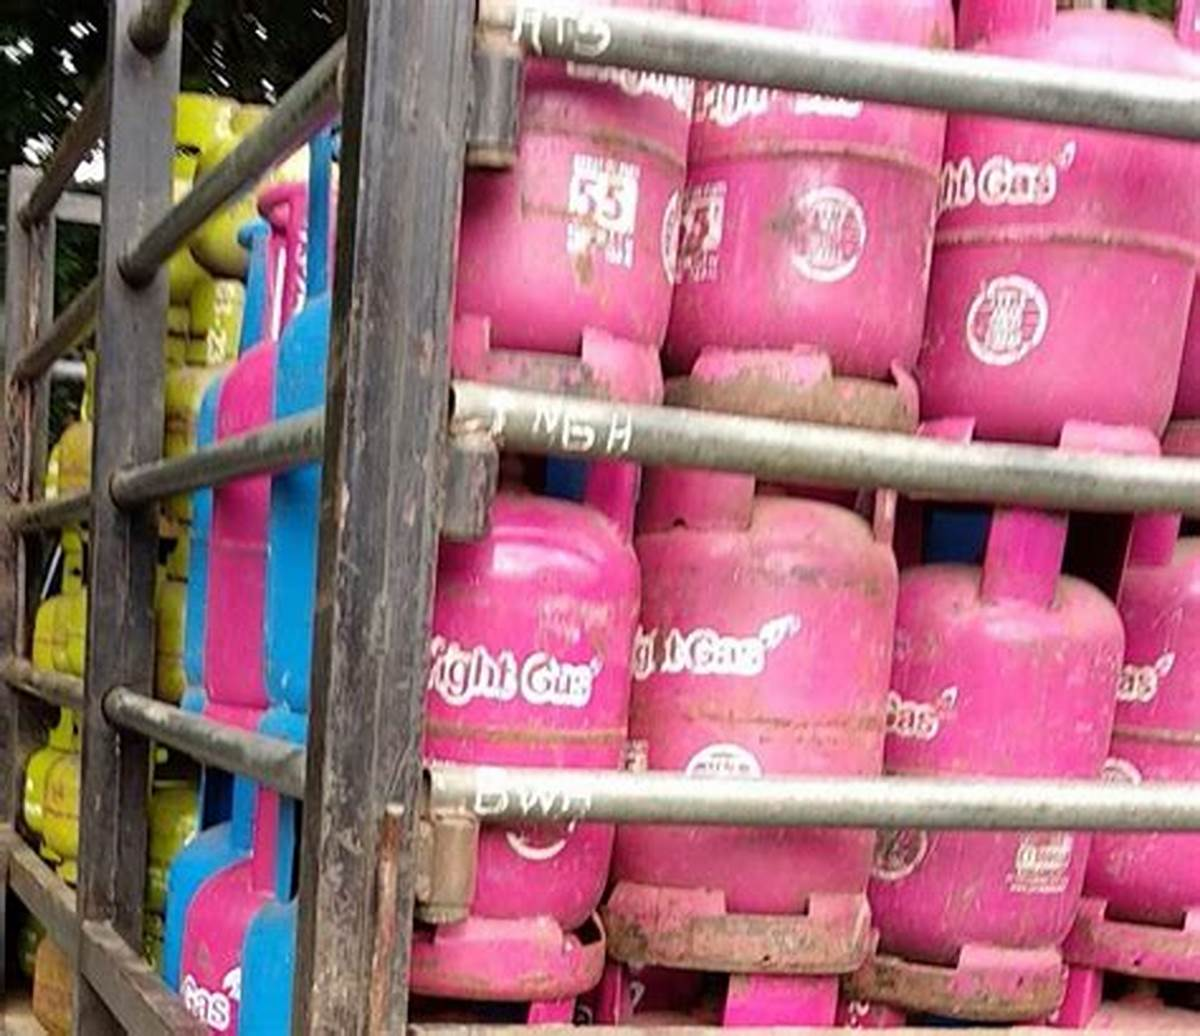blue_gas: (268, 127, 368, 740), (246, 800, 357, 1036)
bright_gas: (390, 443, 643, 1000), (610, 461, 884, 967), (924, 1, 1200, 457), (874, 500, 1116, 1009), (684, 3, 944, 413), (452, 1, 684, 404), (1066, 497, 1200, 976), (183, 806, 292, 1024)
gas_ijo: (166, 90, 249, 376), (10, 704, 80, 869), (35, 536, 90, 694)
